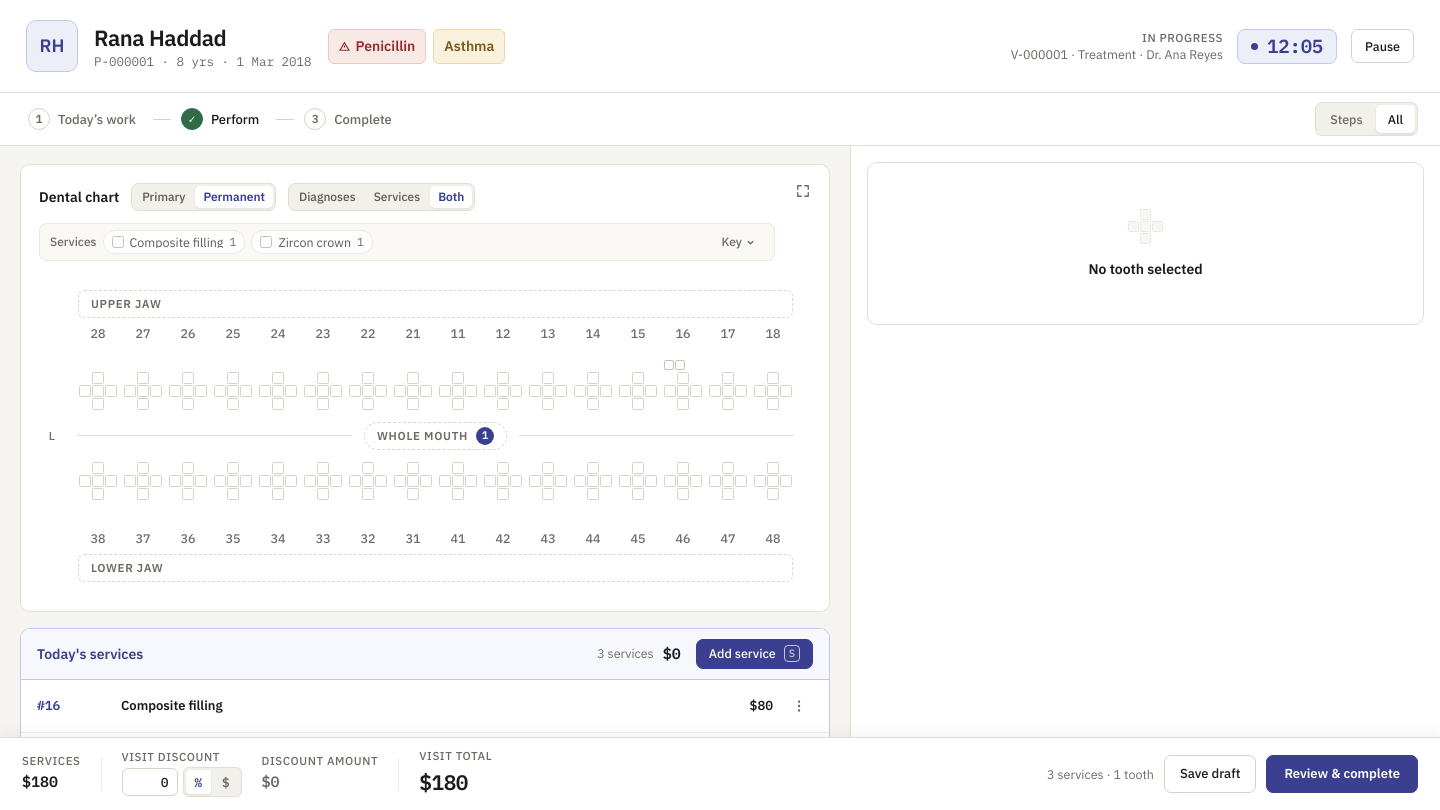
it: FinancialBar › caps a $500 amount discount at the subtotal
Expected: the element named "Upper arch" is shown, [78,324,793,411]
Click the radio button named "Amount" at [226, 782], box [213,770,238,794]
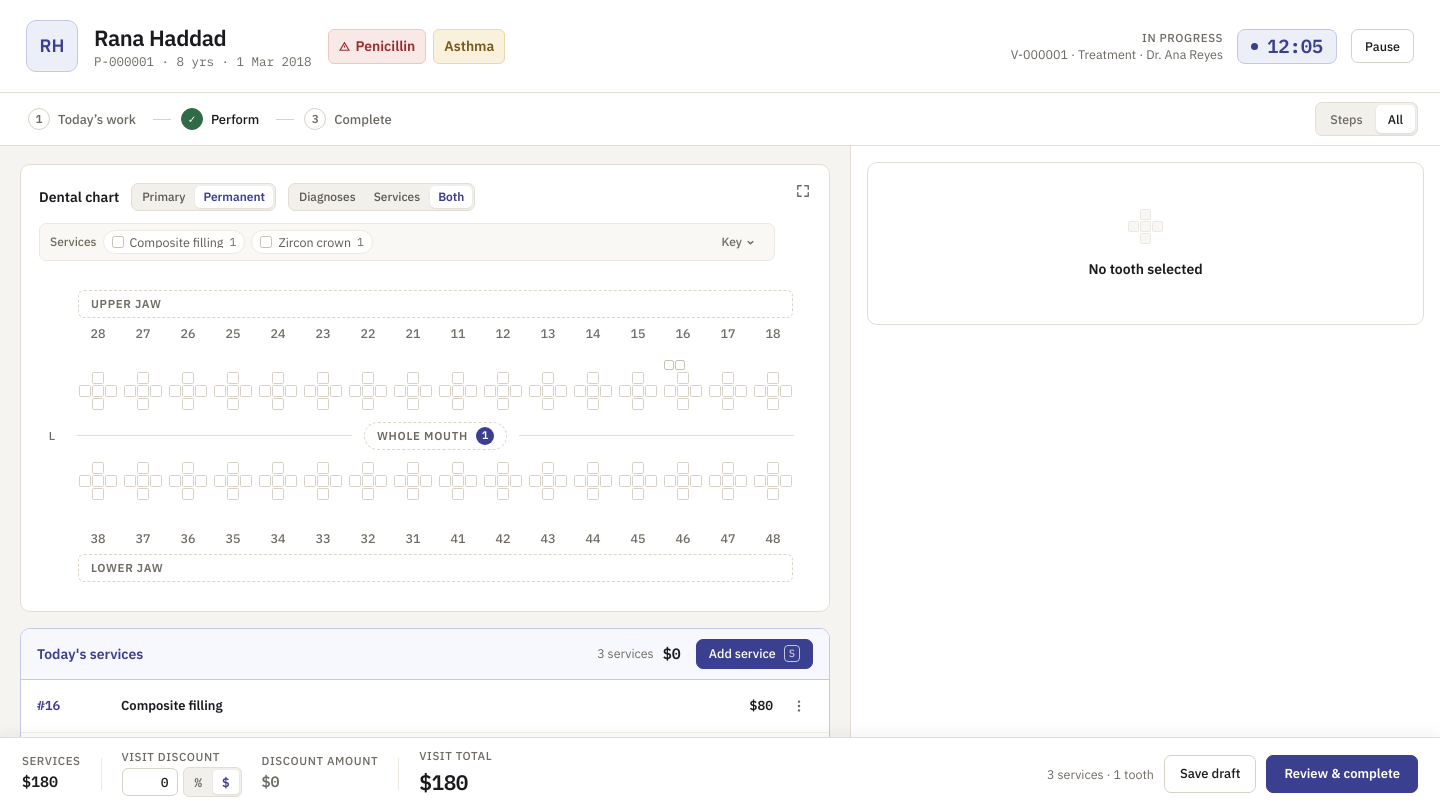
Replace the text in the field named "Visit discount value" with "500" at [150, 782], box [122,768,178,796]
Wait 700 ms
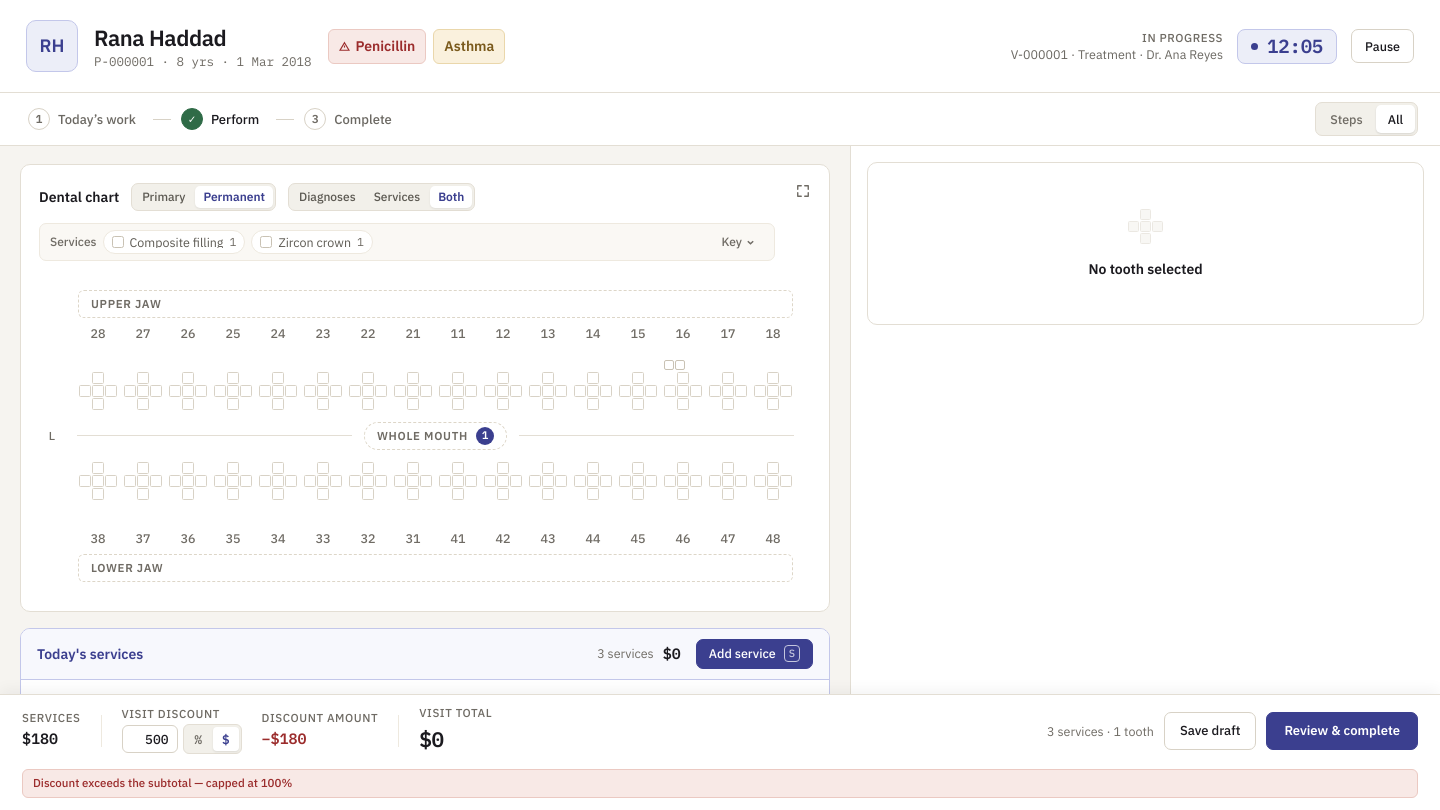
Expected: the message "Discount exceeds the subtotal — capped at 100%" is shown, [22,769,1418,798]
Expected: the text "−$180" is shown, [262,729,306,748]
Expected: the text "$0" below "Visit total" is shown, [419,725,444,753]
Replace the text in the field named "Visit discount value" with "30" at [150, 739], box [122,725,178,753]
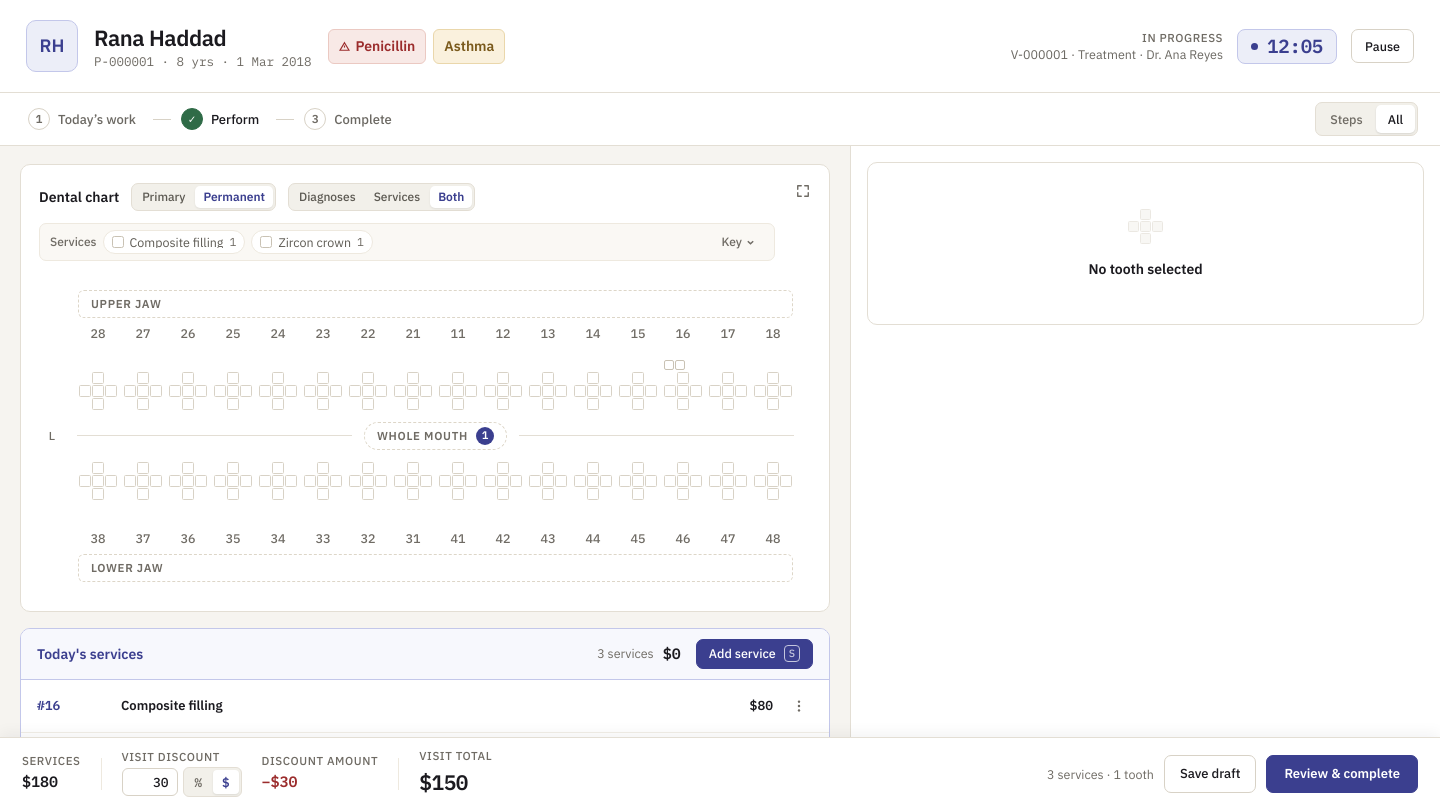
Expected: the message "Discount exceeds the subtotal — capped at 100%" is gone
Expected: the text "$150" is shown, [419,768,468,796]
